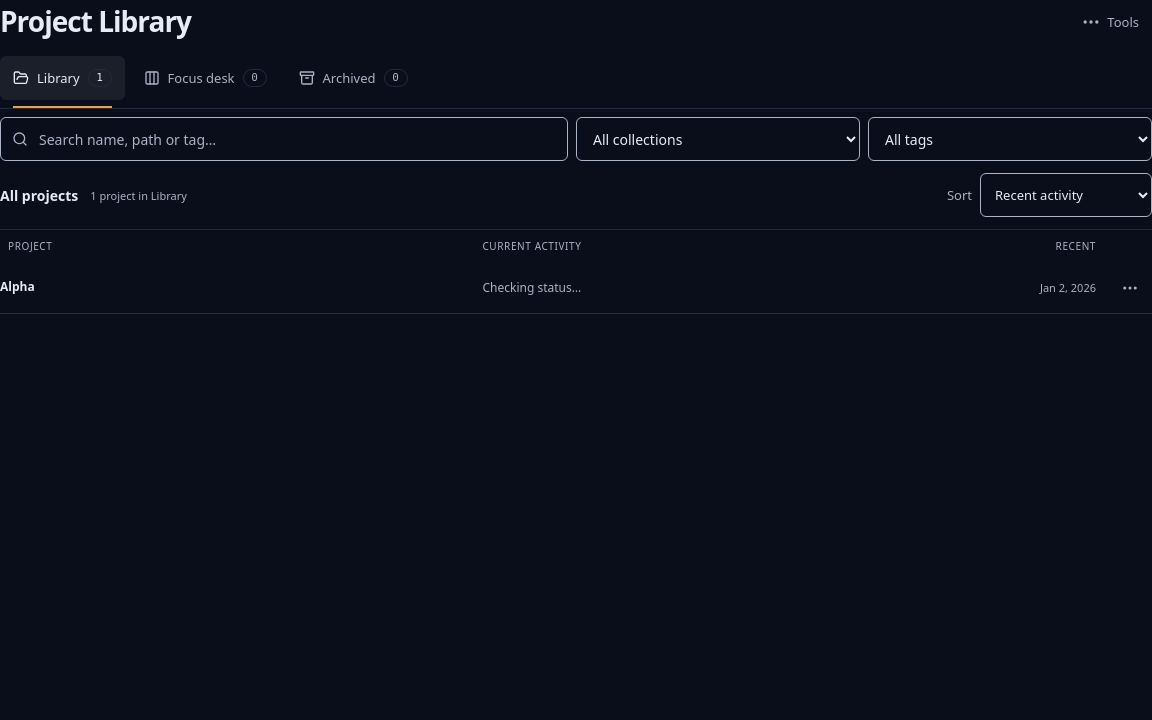
Test case: Contextual project authoring › uses the editable project name as the sheet title and keeps identity available
The width and height of the screenshot is (1152, 720).
Click the button named "Details and organization for Alpha".
click(1130, 288)  # box left=1108, top=266, right=1151, bottom=310
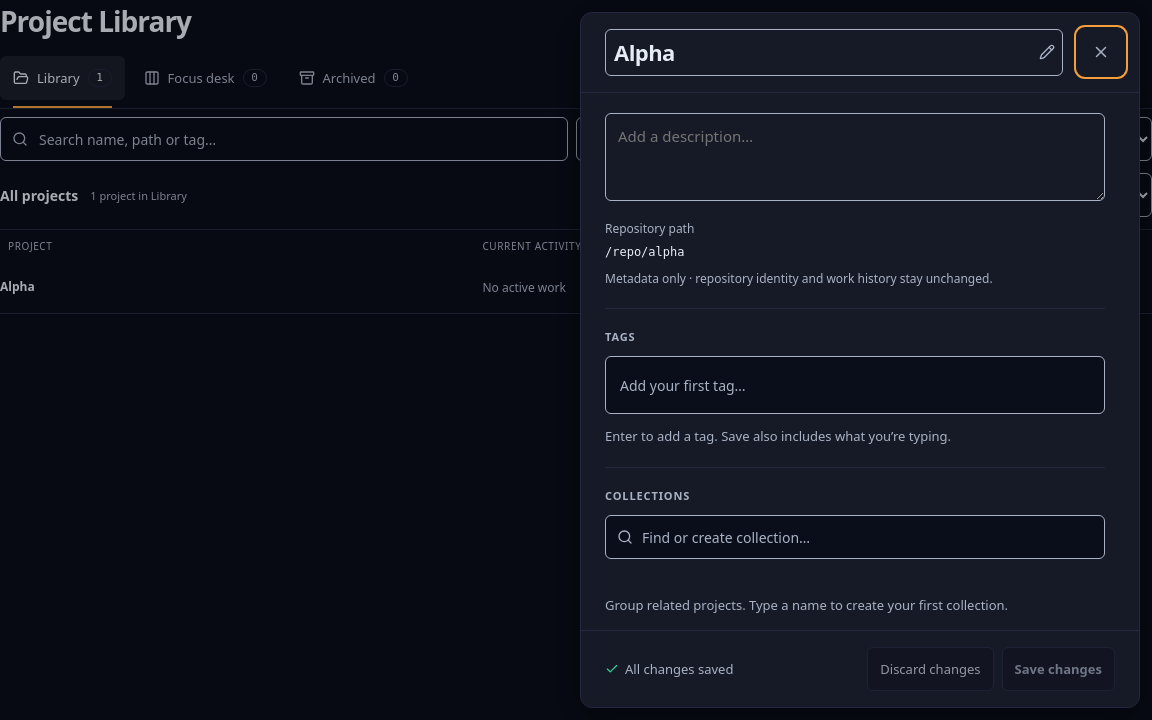
Result: the text "/repo/alpha" is shown at left=605, top=245, right=684, bottom=259
